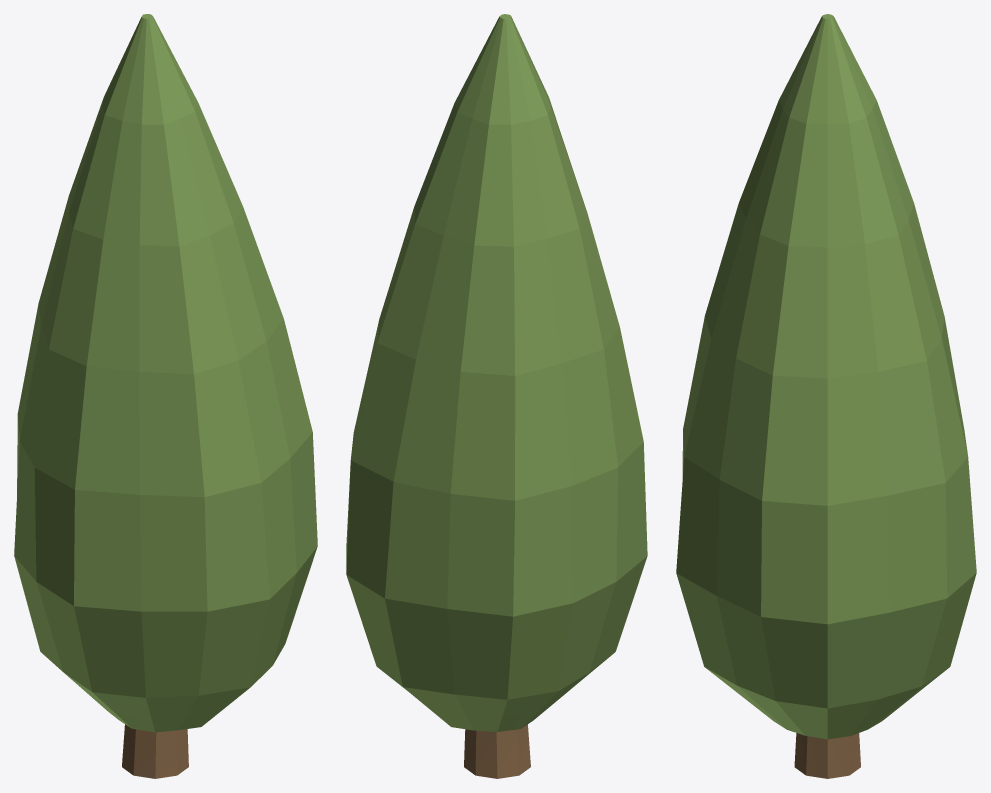
The model's file is cypress-soft-1.glb.
3 views of the same model, side by side, from view 1: azimuth 30°, elevation 25°; view 2: azimuth 150°, elevation 25°; view 3: azimuth 270°, elevation 25° (orthographic).
Visible parts, largest first — view 1: Cypress, Trunk; view 2: Cypress, Trunk; view 3: Cypress, Trunk.
Part boxes in pixels (bbox=[...]): Cypress: bbox=[14, 14, 317, 732]; Trunk: bbox=[122, 724, 188, 778]; Cypress: bbox=[346, 14, 647, 731]; Trunk: bbox=[464, 724, 530, 778]; Cypress: bbox=[676, 14, 976, 739]; Trunk: bbox=[794, 733, 860, 778].
Bounding box in the file's own units: 0.6281 × 1.7 × 0.6223.
